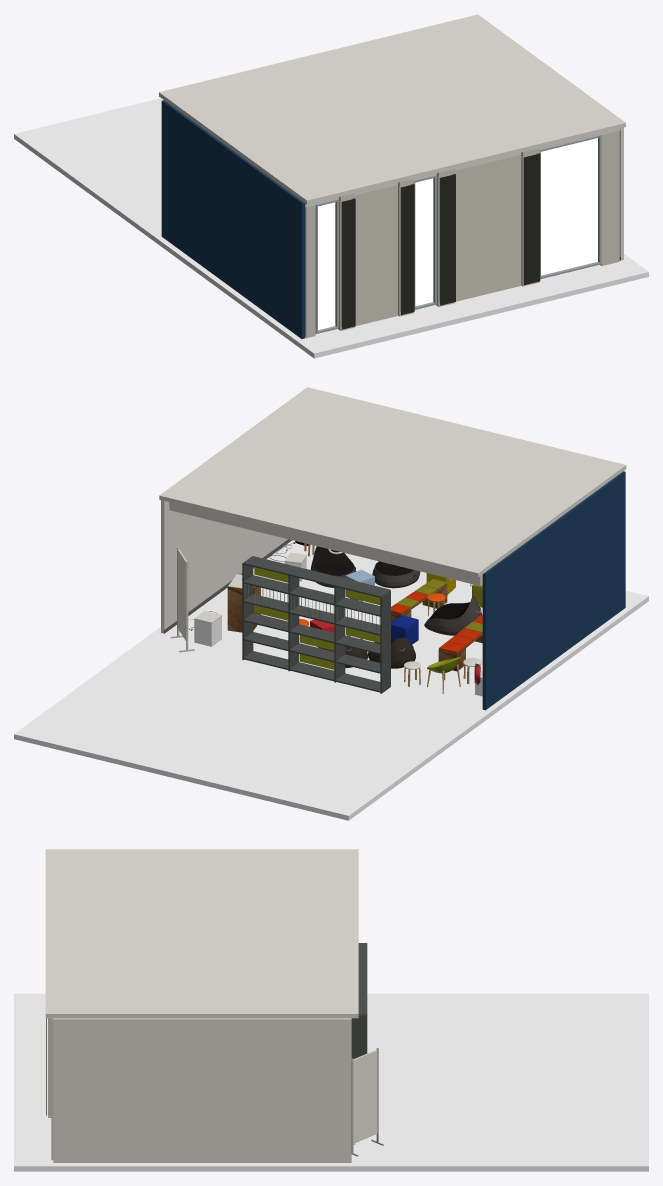
The picture shows the model from 3 angles, top to bottom: view 1: azimuth 30°, elevation 25°; view 2: azimuth 150°, elevation 25°; view 3: azimuth 270°, elevation 25°; orthographic projection. The views are drawn at different scales.
Parts seen in each view (by area): view 1: ceiling__box_000, floor__box_000, wall_whiteboard__box_000, window_wall__box_002, window_1__box_004, window_wall__box_001, window_wall__box_003, window_2__box_004, facade_1_high__recess_back, window_3__box_004, facade_1_low__recess_back, facade_2_low__recess_back (+7 smaller); view 2: floor__box_000, ceiling__box_000, wall_whiteboard__box_000, wall_front__box_000, ceiling__box_001, divider__box_005, divider__box_004, divider__box_001, divider__box_000, divider__box_002, divider__box_003, beanbag_center__soft_body (+10 smaller); view 3: floor__box_000, ceiling__box_000, wall_front__box_000, white_display_panel__box_000, divider__box_005, divider__box_009.
Boxes of the visible parts, x1,y1,x2,y2 form: ceiling__box_000: [159, 14, 625, 204]; floor__box_000: [14, 98, 648, 358]; wall_whiteboard__box_000: [161, 100, 304, 338]; window_wall__box_002: [455, 155, 521, 301]; window_1__box_004: [541, 138, 597, 275]; window_wall__box_001: [355, 185, 397, 325]; window_wall__box_003: [600, 131, 619, 265]; window_2__box_004: [415, 178, 433, 306]; facade_1_high__recess_back: [523, 153, 540, 285]; window_3__box_004: [318, 202, 335, 329]; facade_1_low__recess_back: [439, 174, 455, 305]; facade_2_low__recess_back: [341, 198, 355, 329]; floor__box_000: [14, 540, 648, 820]; ceiling__box_000: [159, 387, 626, 577]; wall_whiteboard__box_000: [482, 471, 625, 710]; wall_front__box_000: [161, 500, 287, 633]; ceiling__box_001: [169, 502, 482, 585]; divider__box_005: [243, 556, 390, 597]; divider__box_004: [243, 575, 380, 616]; divider__box_001: [243, 632, 380, 673]; divider__box_000: [243, 651, 380, 692]; divider__box_002: [243, 613, 380, 654]; divider__box_003: [243, 594, 380, 635]; beanbag_center__soft_body: [424, 595, 481, 635]; floor__box_000: [14, 993, 648, 1171]; ceiling__box_000: [45, 849, 358, 1018]; wall_front__box_000: [53, 1018, 351, 1162]; white_display_panel__box_000: [353, 1049, 377, 1143]; divider__box_005: [358, 943, 367, 1014]; divider__box_009: [351, 1015, 367, 1058].
Bounding box in the file's own units: 8.5 × 3.52 × 13.2.
94 materials, 19 textured.
